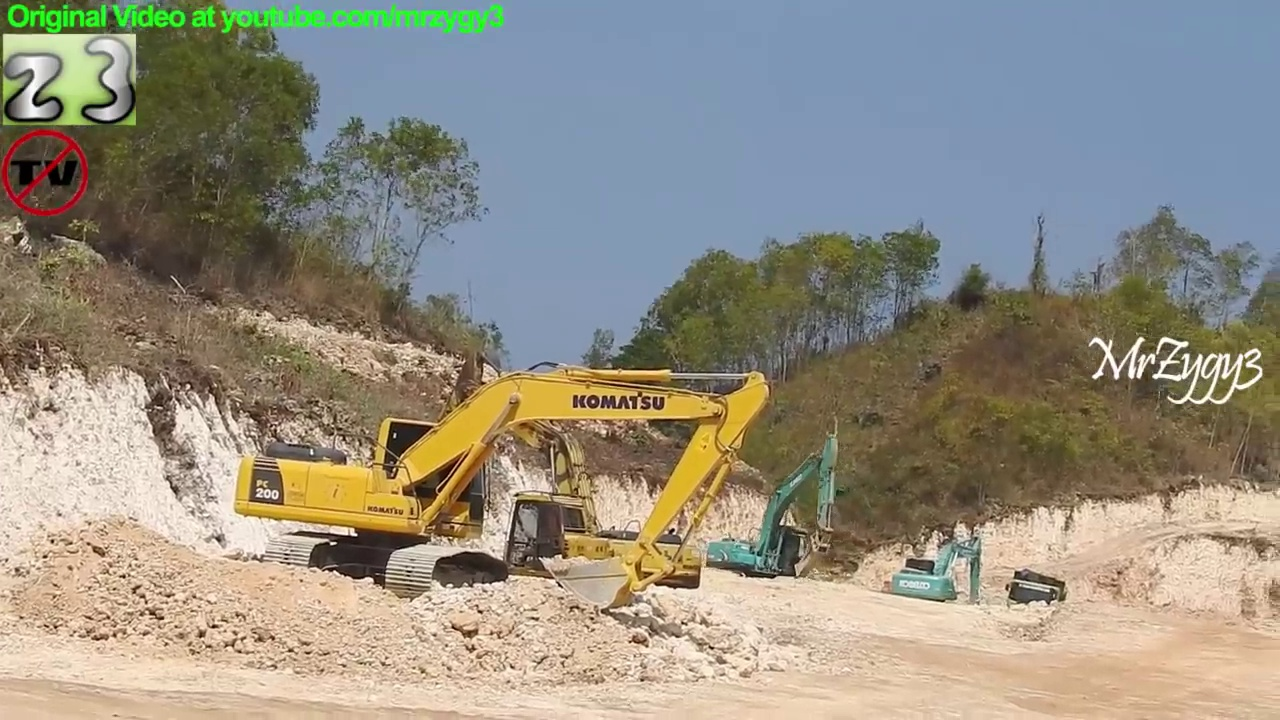excavator: (229, 357, 775, 623), (399, 350, 709, 616), (702, 414, 844, 595), (881, 530, 989, 626)
truck: (1002, 565, 1072, 643)
